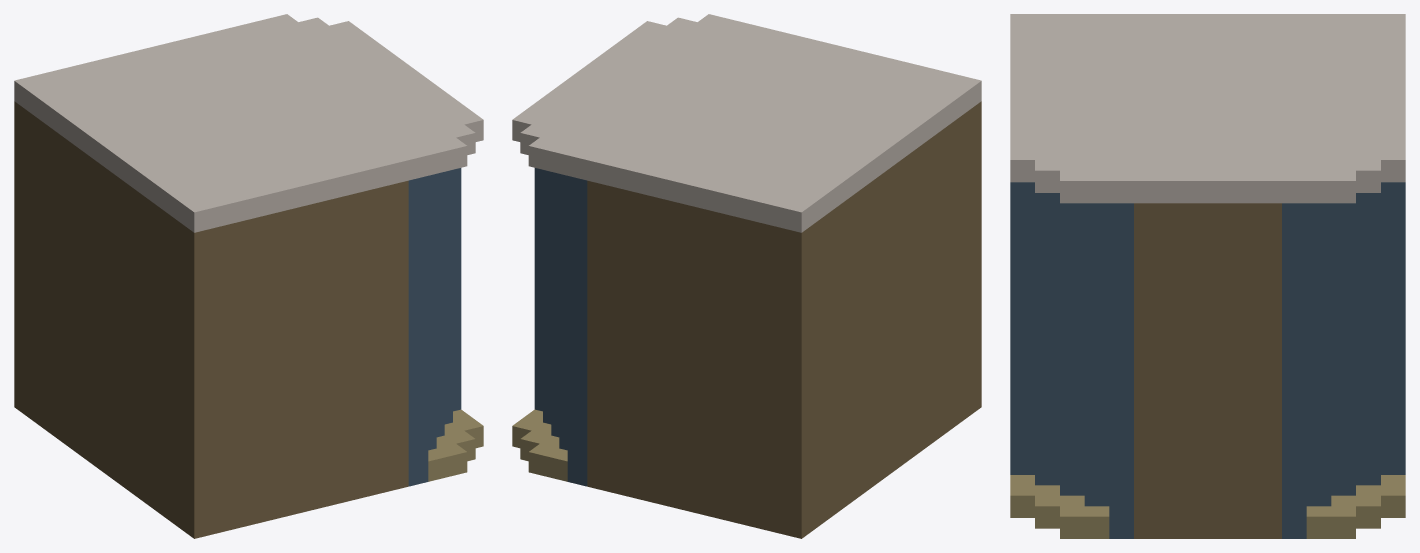
Rendered from CounterCornerIn2.obj.
The picture shows the model from 3 angles, left to right: view 1: azimuth 30°, elevation 25°; view 2: azimuth 150°, elevation 25°; view 3: azimuth 270°, elevation 25°; orthographic projection. The views are drawn at different scales.
Parts seen in each view (by area): view 1: CounterCornerIn2; view 2: CounterCornerIn2; view 3: CounterCornerIn2.
Boxes of the visible parts, <box> form: CounterCornerIn2: <box>14,14,483,538</box>; CounterCornerIn2: <box>512,14,981,538</box>; CounterCornerIn2: <box>1010,14,1405,538</box>.
Size of the model in its own units: 16 by 16 by 16.
1 material, 1 textured.
